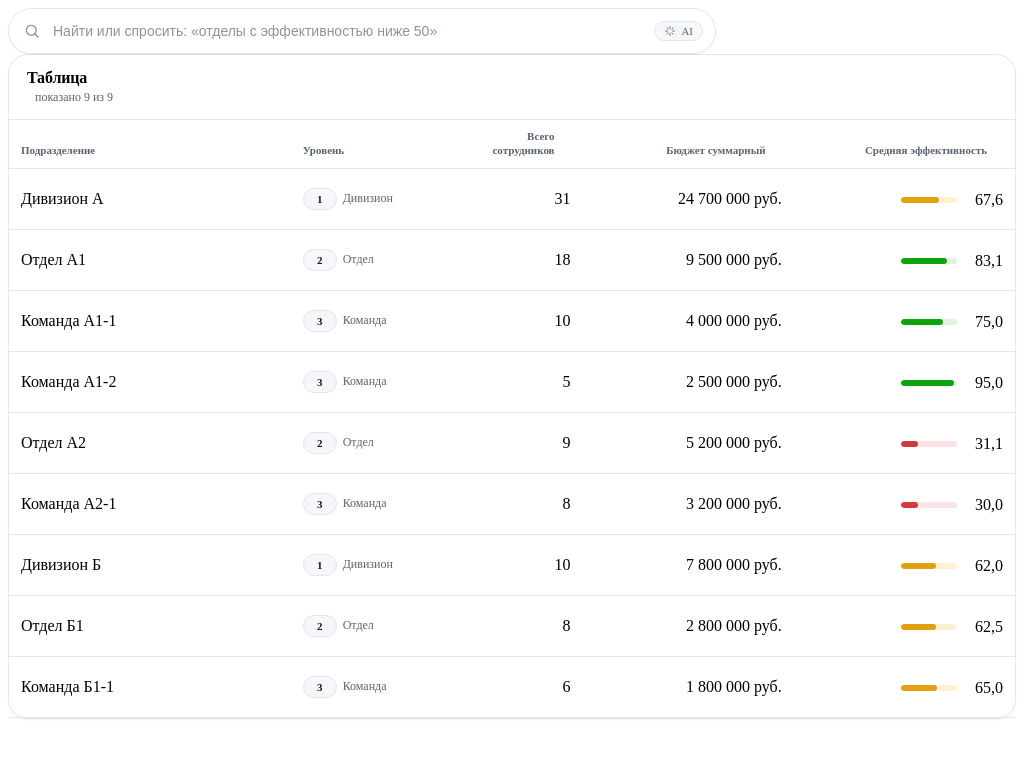
Test case: SearchBox + AnalyticsTablePanel › если сервер не распознал условия — остаётся текстовый поиск
This screenshot has width=1024, height=768.
In the search field: (348, 31) [51,22,644,40], type "команда а1"
Wait 600 ms
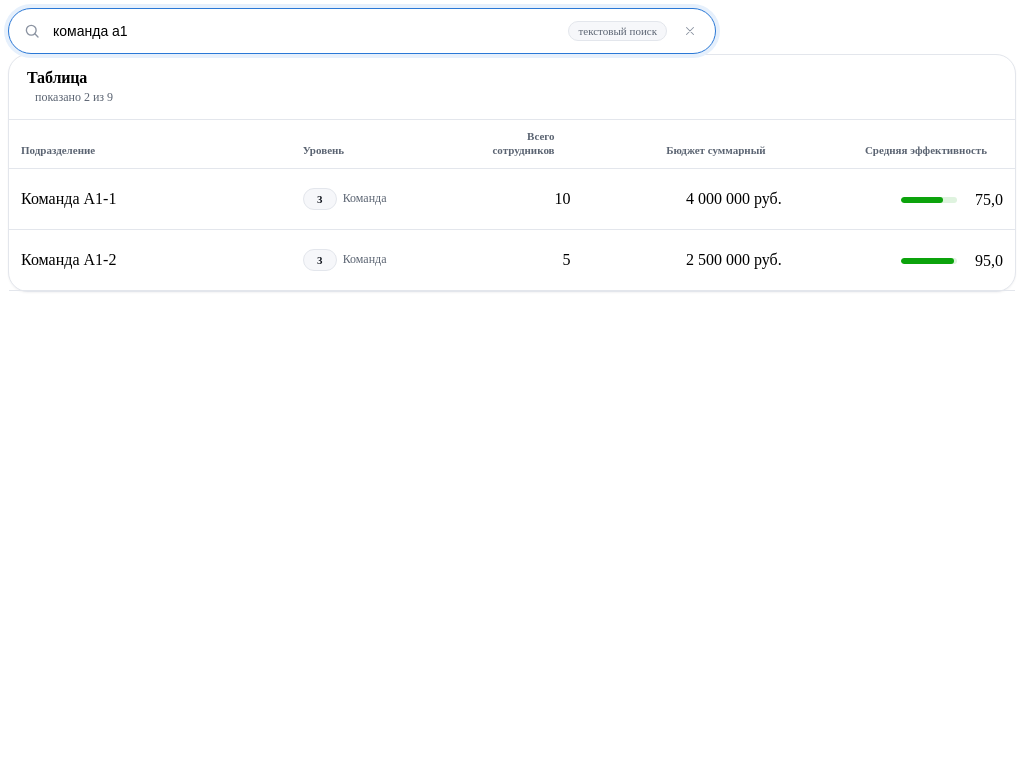
Expected: the text "текстовый поиск" is shown, [568,21,667,41]
